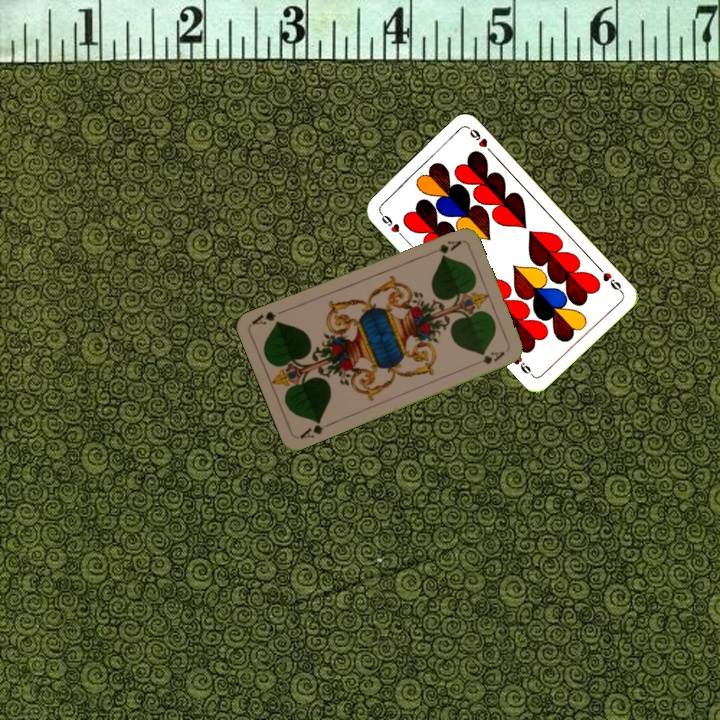GA: (296, 416, 334, 441), (425, 236, 464, 258)
H9: (594, 262, 625, 295), (376, 208, 407, 241)
